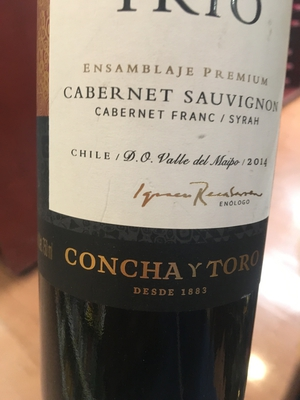trio cabernet sauvignon: (36, 1, 286, 360)
